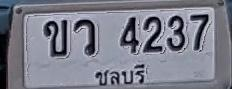2: (142, 16, 162, 52)
3: (166, 15, 186, 51)
4: (120, 16, 138, 54)
7: (190, 13, 209, 50)
A02: (44, 20, 68, 56)
A37: (74, 18, 96, 56)
CBI: (94, 61, 148, 87)
